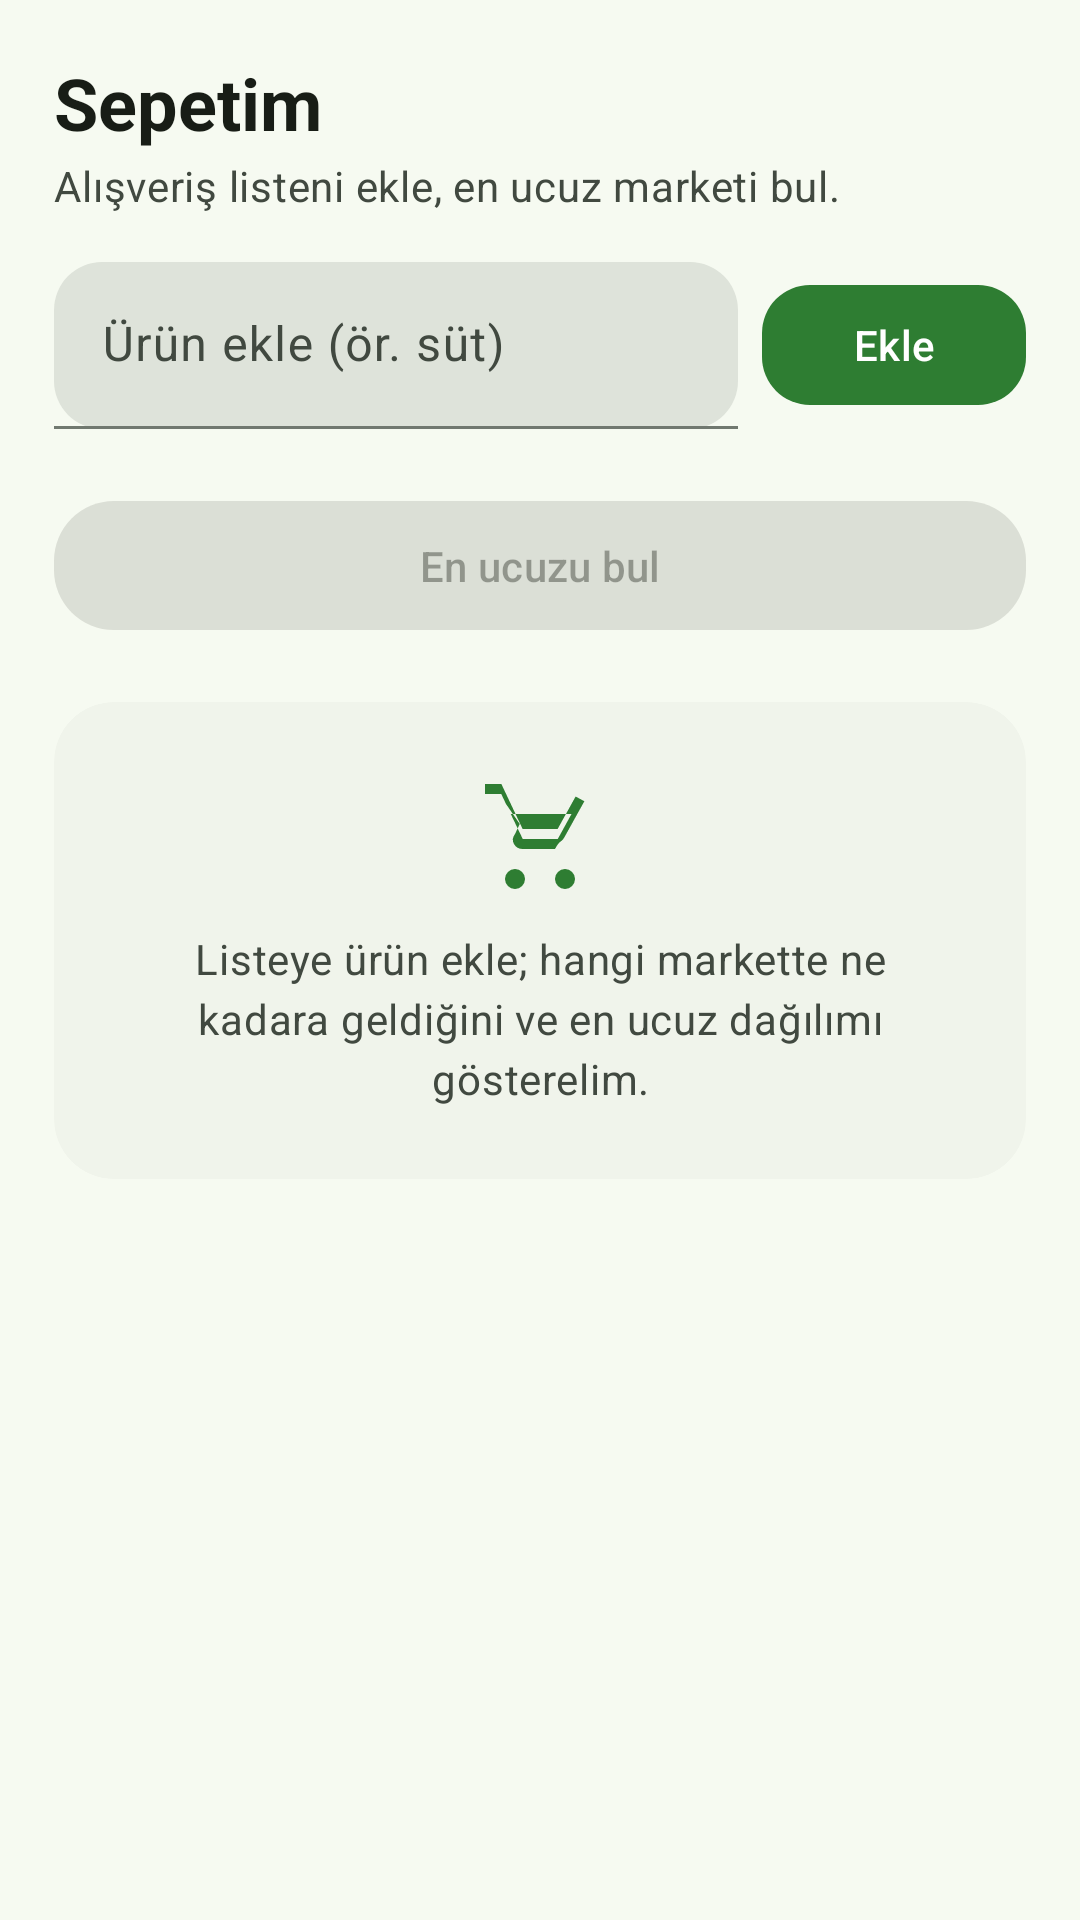

Point at icon controls on the screen. Image size 1080 × 1920, points as (x,y).
Sepetim: (535,836)
